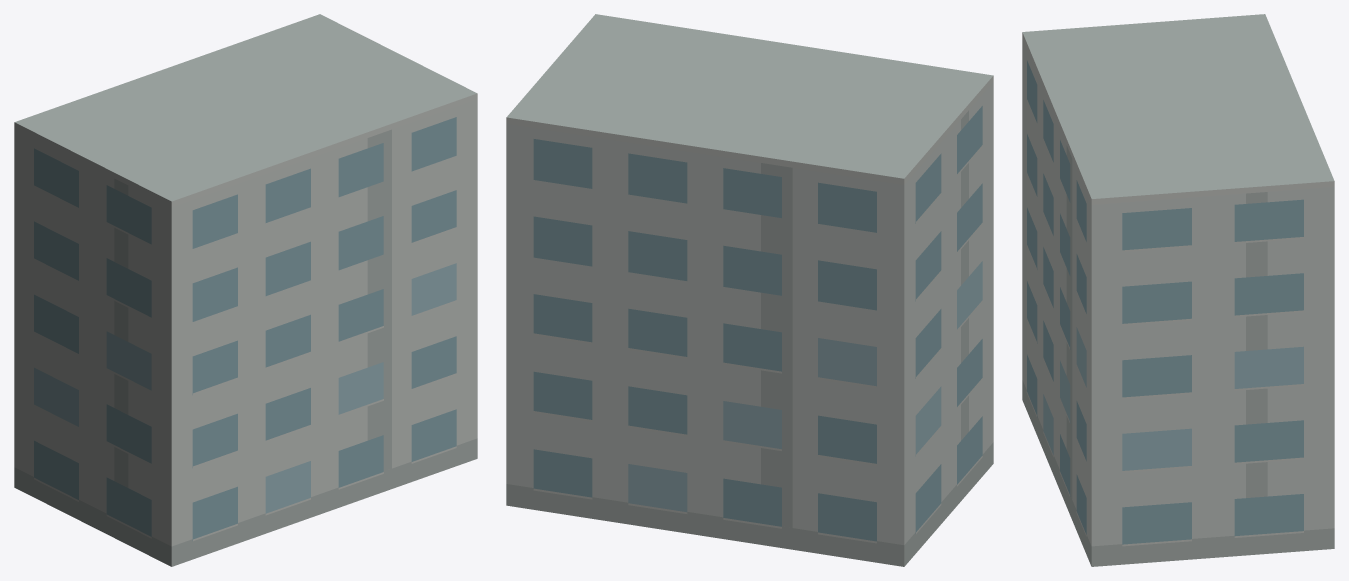
The model's file is residential-26db584c-423e-44c1-aa57-1831ef972e67.glb.
The picture shows the model from 3 angles, left to right: view 1: azimuth 30°, elevation 25°; view 2: azimuth 150°, elevation 25°; view 3: azimuth 270°, elevation 25°; orthographic projection. The views are drawn at different scales.
Parts seen in each view (by area): view 1: residential-26db584c-423e-44c1-aa57-1831ef972e67.tmp; view 2: residential-26db584c-423e-44c1-aa57-1831ef972e67.tmp; view 3: residential-26db584c-423e-44c1-aa57-1831ef972e67.tmp.
Boxes of the visible parts, left/top/right/bottom form: residential-26db584c-423e-44c1-aa57-1831ef972e67.tmp: left=14, top=14, right=477, bottom=566; residential-26db584c-423e-44c1-aa57-1831ef972e67.tmp: left=506, top=14, right=993, bottom=566; residential-26db584c-423e-44c1-aa57-1831ef972e67.tmp: left=1022, top=14, right=1334, bottom=566.
Bounding box in the file's own units: 16.47 × 15.25 × 11.74.
